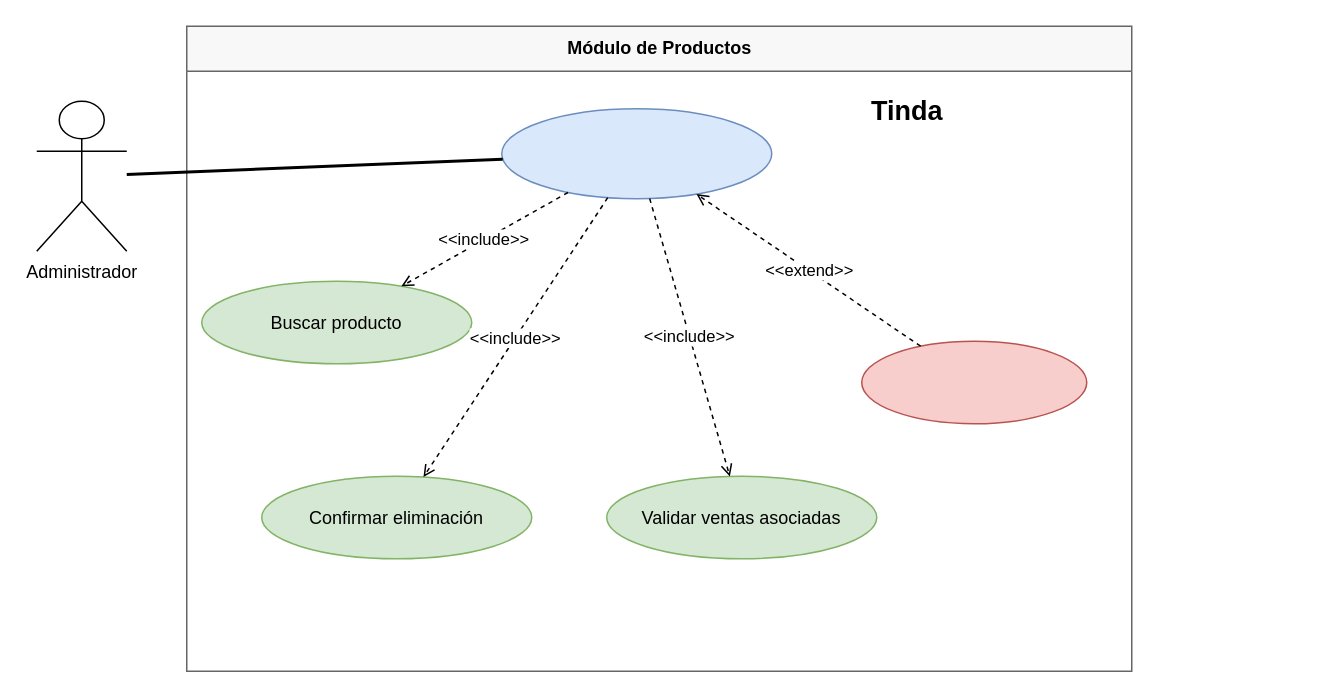
The diagram is 1322 pixels wide and 698 high, and some of its shapes have lost their labels. The box of each missing label's shape, as (x1, y1, x2, y2) in pixels:
Eliminar producto: (500, 107, 772, 199)
Producto con ventas asociadas: (860, 340, 1087, 424)
